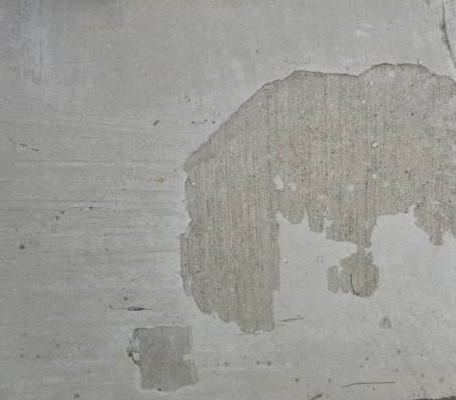Spalling: (177, 63, 456, 333), (126, 325, 201, 394)
